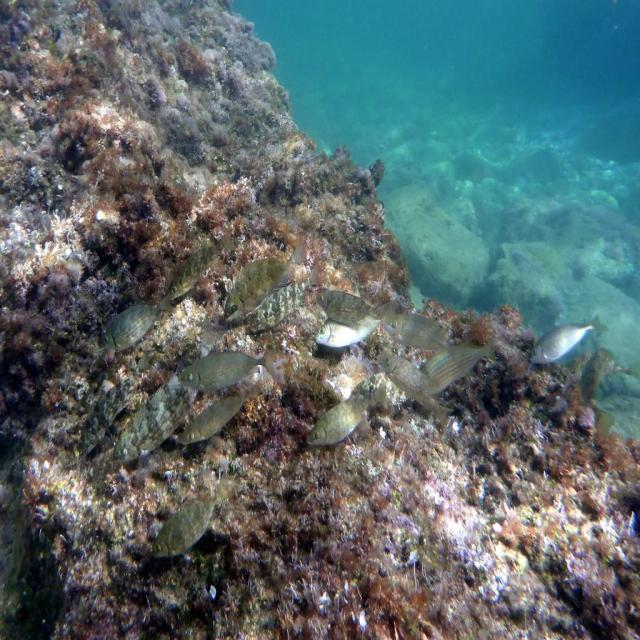Sokar Baligi: (145, 465, 243, 570), (222, 232, 308, 334), (172, 339, 288, 392), (524, 301, 610, 372)
